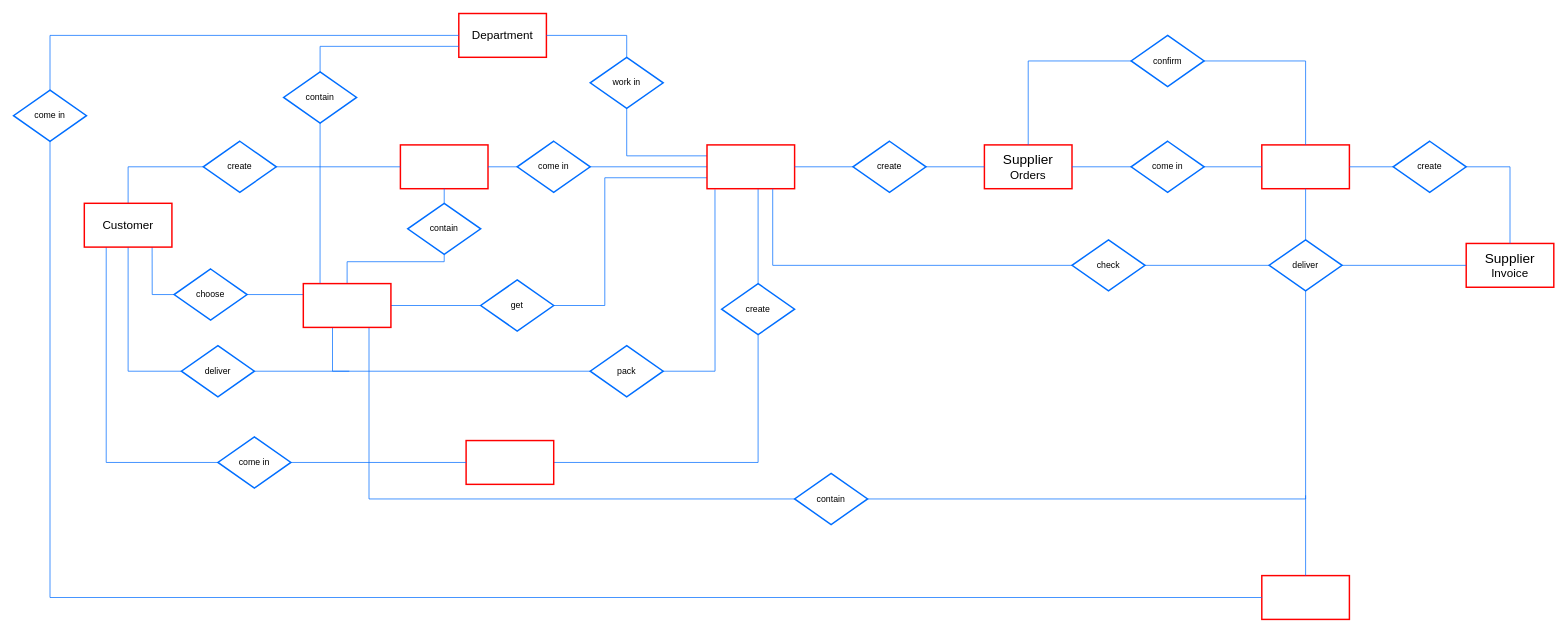
Some shapes in this 1567 by 632 pixel diagram are drawn without their labels. The shapes that lost their labels are listed below. From the top down, each one's centre as x and y in pixels, then its label:
At point (443, 166): "Customer Orders".
At point (750, 166): "Employee".
At point (1305, 166): "Supplier".
At point (346, 305): "Product".
At point (509, 462): "Customer Invoice".
At point (1305, 597): "Warehouse".
